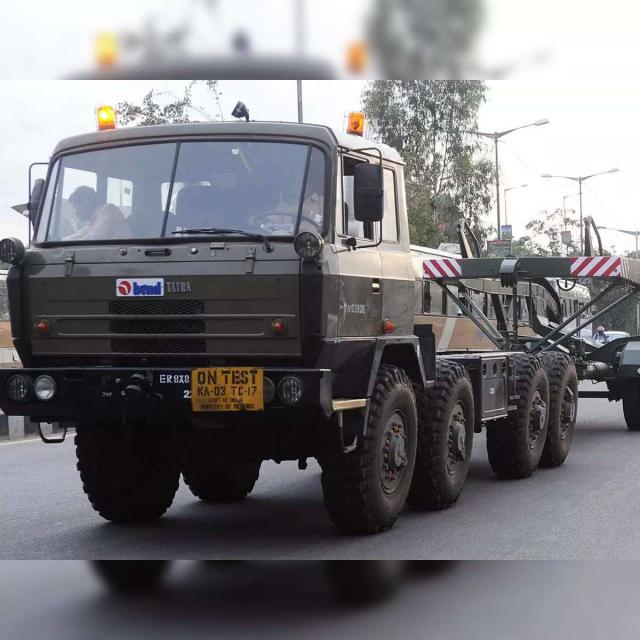truck: (0, 122, 640, 533)
